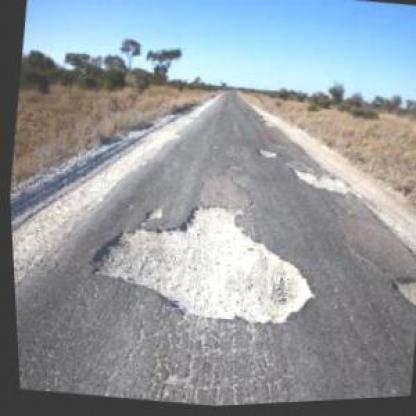pothole: (76, 183, 326, 341), (288, 162, 351, 202), (384, 273, 415, 312), (141, 205, 164, 225), (254, 147, 276, 161)
